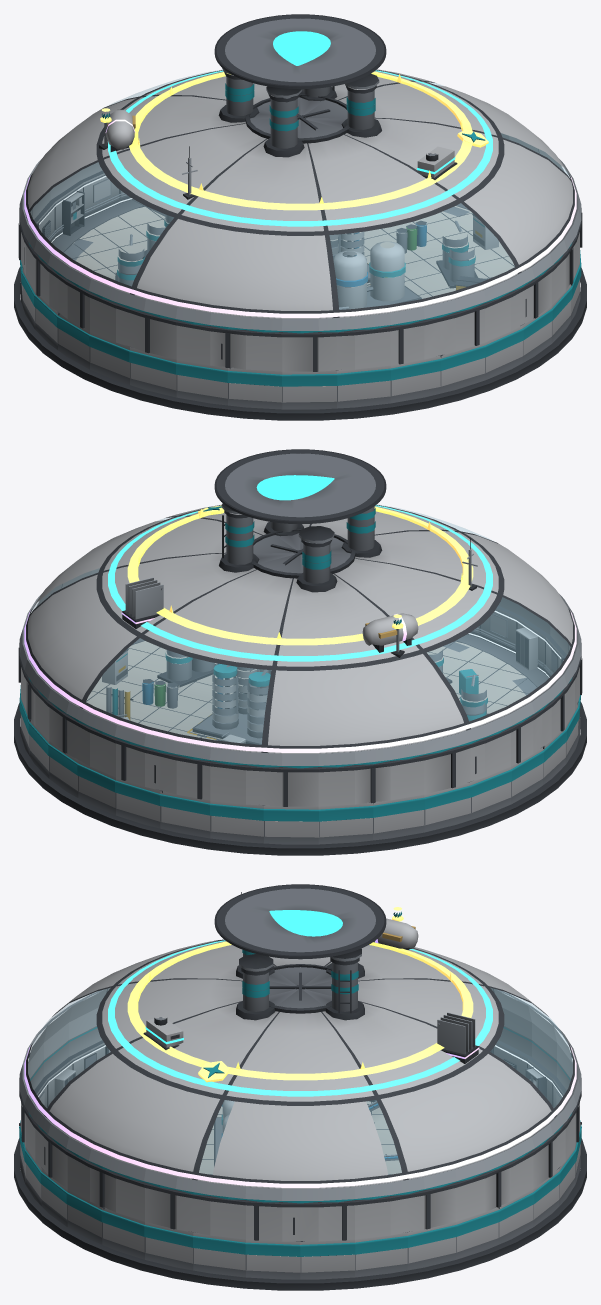
The model's file is oxygen_plant_xl_far.glb.
The picture shows the model from 3 angles, top to bottom: view 1: azimuth 30°, elevation 25°; view 2: azimuth 150°, elevation 25°; view 3: azimuth 270°, elevation 25°; orthographic projection.
Parts seen in each view (by area): view 1: Roof, Base, Interior, L2, L5, L3, L4; view 2: Roof, Base, Interior, L2, L4, L5, L3; view 3: Roof, Base, L2, L4, L5, L3, Interior.
Part boxes in pixels (x1,y1,x2,y2): Roof: [18, 14, 582, 371]; Base: [14, 170, 586, 420]; Interior: [64, 199, 498, 309]; L2: [19, 146, 581, 330]; L5: [99, 71, 488, 210]; L3: [108, 70, 492, 226]; L4: [24, 109, 576, 317]; Roof: [18, 449, 582, 806]; Base: [14, 605, 586, 855]; Interior: [102, 642, 536, 744]; L2: [19, 538, 581, 765]; L4: [24, 577, 576, 752]; L5: [127, 505, 473, 657]; L3: [108, 505, 492, 661]; Roof: [19, 884, 581, 1241]; Base: [14, 1040, 586, 1290]; L2: [19, 892, 581, 1200]; L4: [24, 917, 576, 1187]; L5: [127, 907, 473, 1082]; L3: [108, 940, 492, 1096]; Interior: [214, 1100, 398, 1166].
Bounding box in the file's own units: 17.76 × 8.53 × 17.76.
